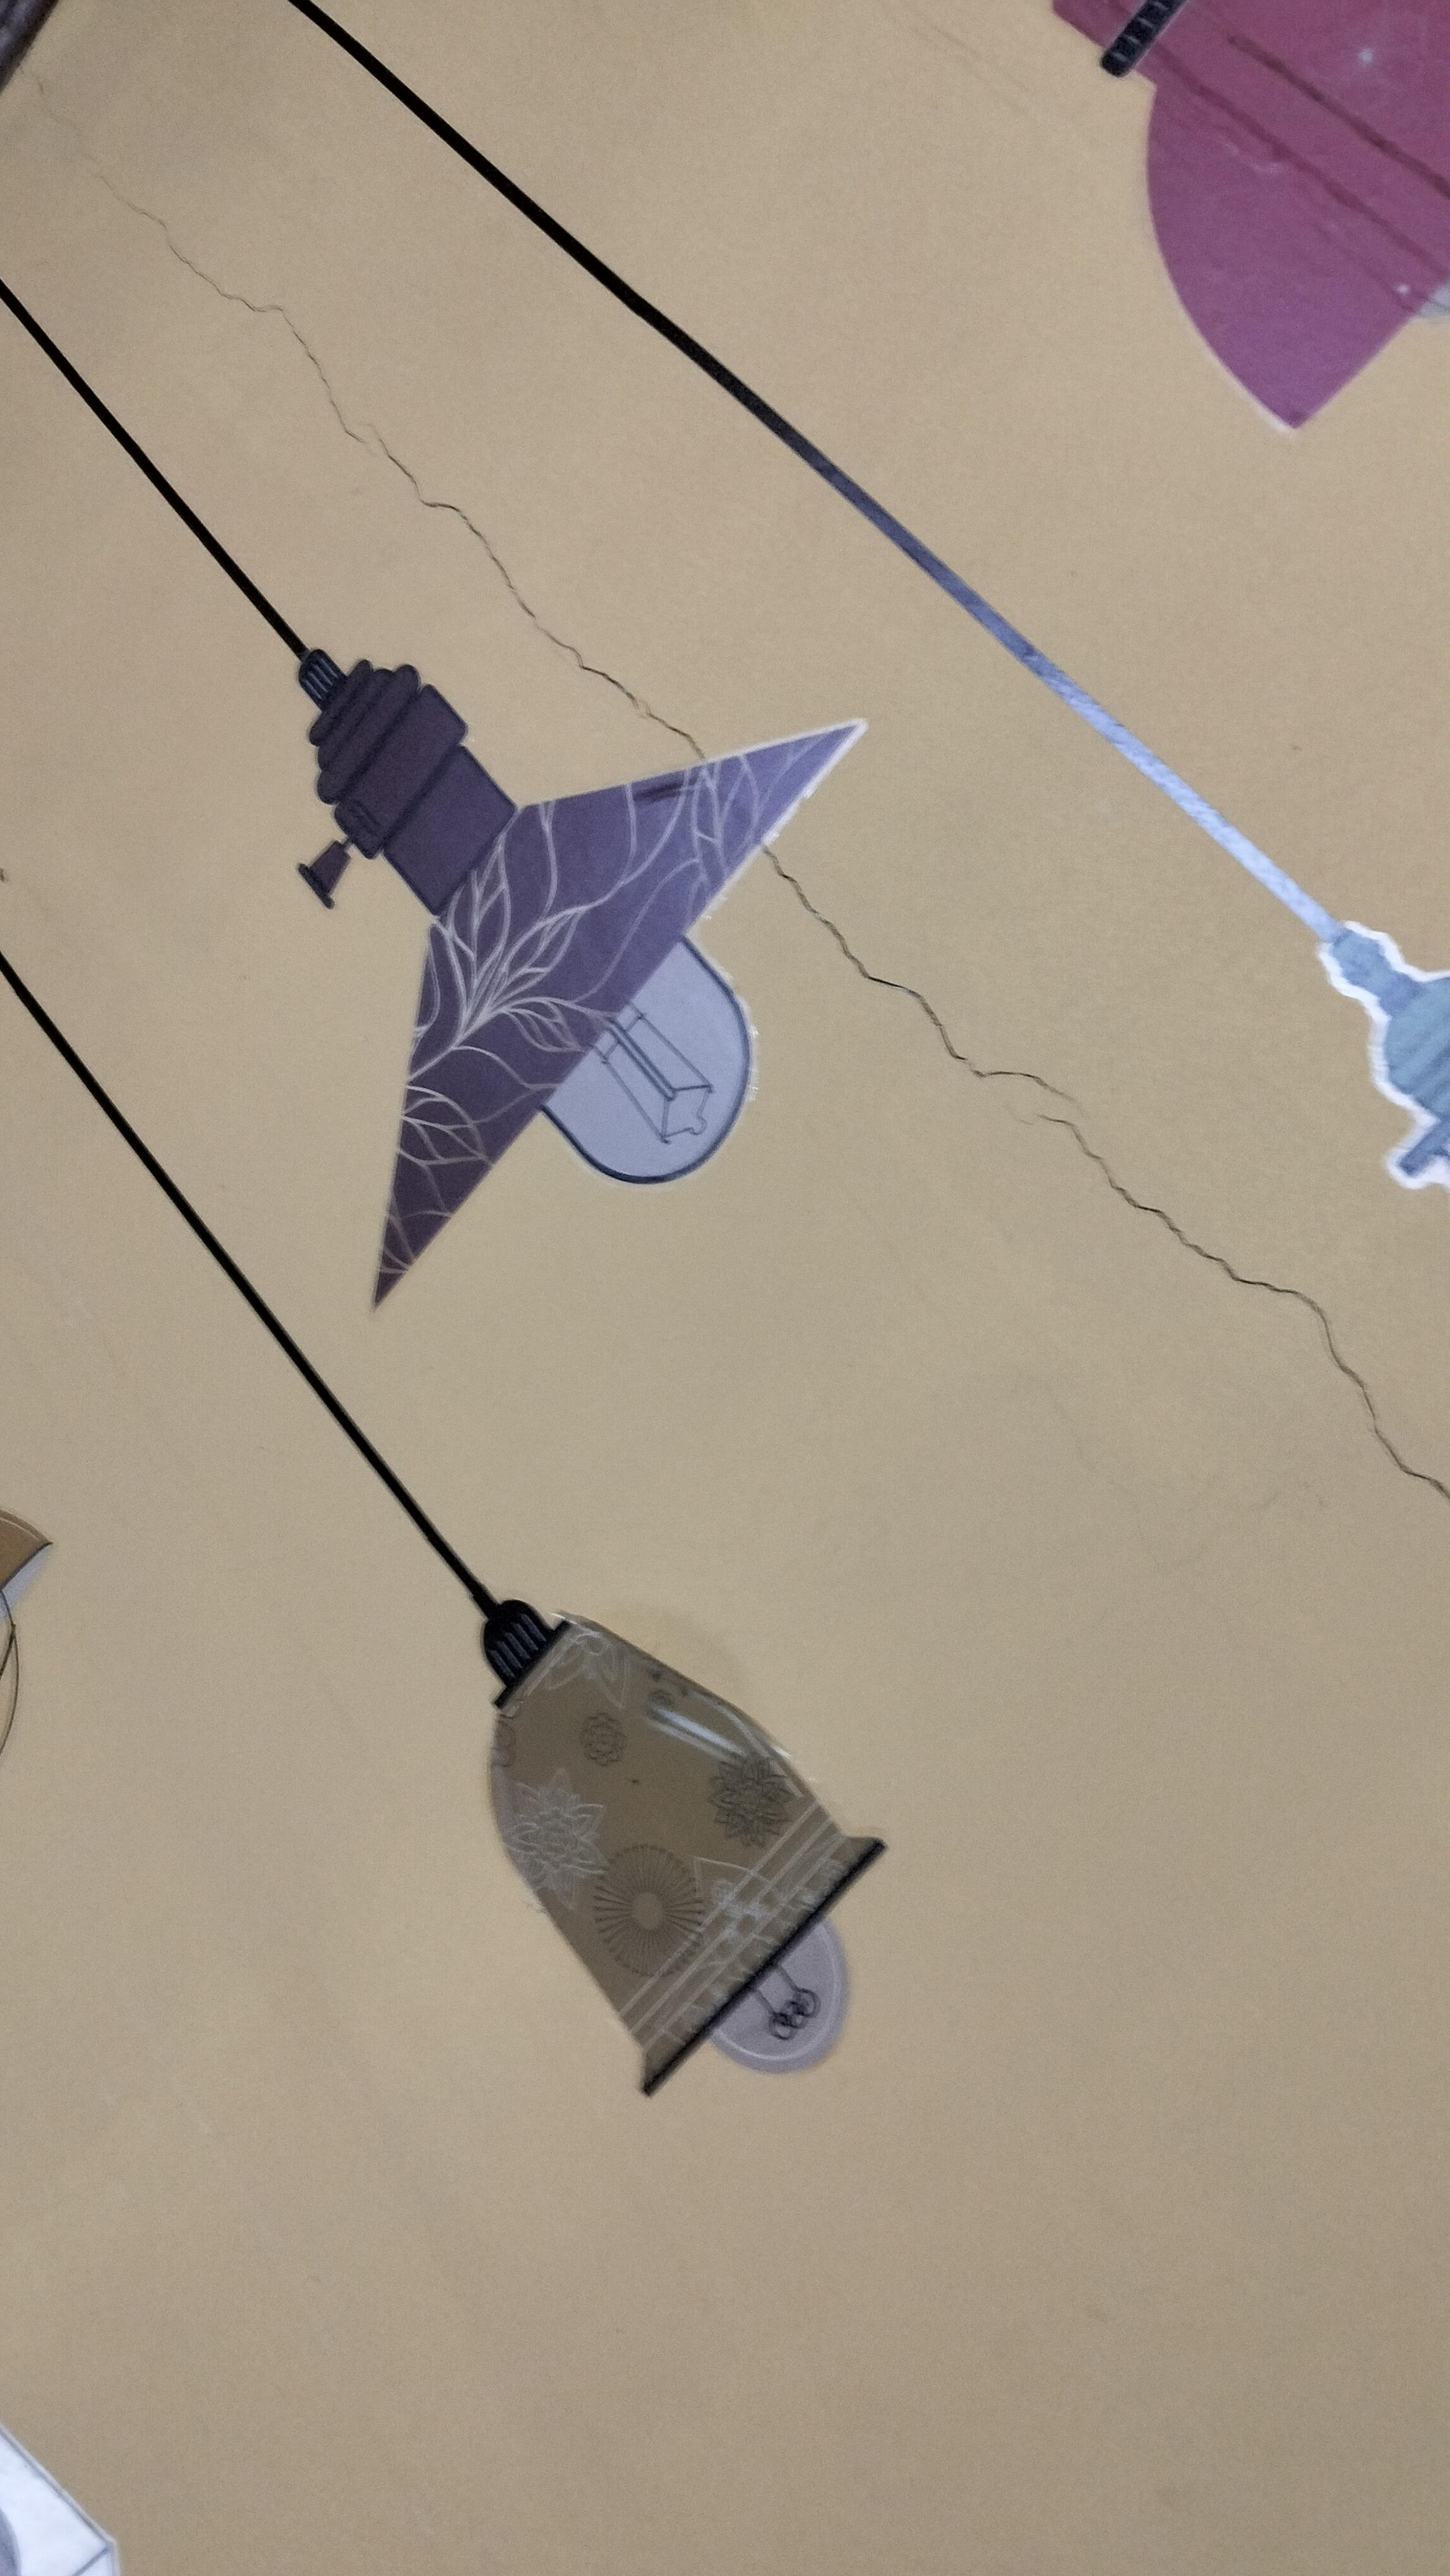Crack: (754, 840, 1215, 1313), (1167, 1203, 1450, 1601), (269, 260, 538, 573), (69, 69, 303, 329), (482, 554, 729, 759)
